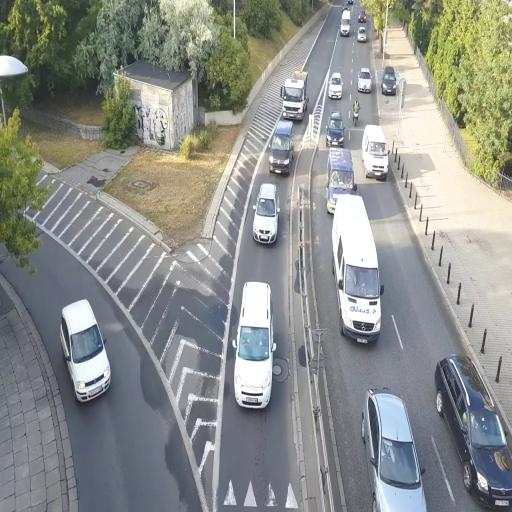vehicle: (434, 353, 512, 508), (361, 387, 427, 512), (332, 192, 382, 344), (60, 297, 112, 403), (234, 280, 274, 410), (326, 149, 355, 214), (252, 184, 279, 246), (362, 124, 388, 181), (268, 120, 293, 176), (281, 74, 308, 124), (326, 112, 344, 146), (381, 67, 398, 96), (328, 71, 342, 100), (358, 68, 372, 92), (357, 21, 369, 42)
